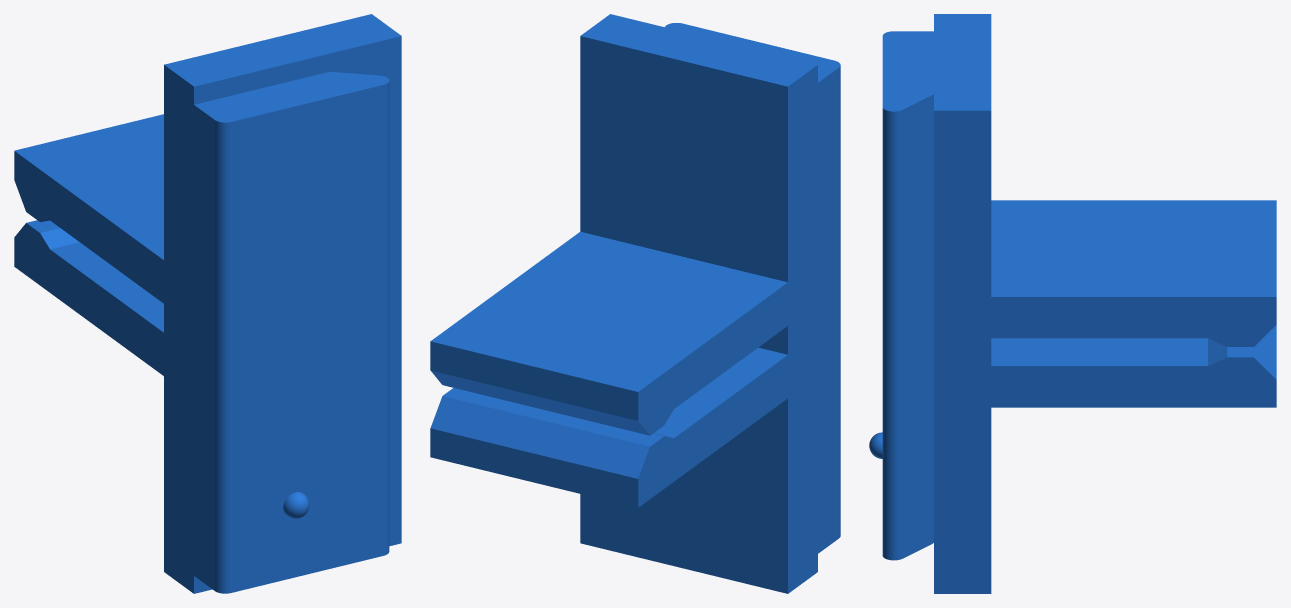
File: vent_clip.glb
3 views of the same model, side by side, from view 1: azimuth 30°, elevation 25°; view 2: azimuth 150°, elevation 25°; view 3: azimuth 270°, elevation 25° (orthographic). The views are drawn at different scales.
Visible parts, largest first — view 1: Open CASCADE STEP translator 7.9 3; view 2: Open CASCADE STEP translator 7.9 3; view 3: Open CASCADE STEP translator 7.9 3.
Part boxes in pixels (box(x1,y1,x2,y2)): Open CASCADE STEP translator 7.9 3: box(14, 14, 401, 593); Open CASCADE STEP translator 7.9 3: box(430, 14, 840, 593); Open CASCADE STEP translator 7.9 3: box(869, 14, 1276, 593).
Bounding box in the file's own units: 0.012 × 0.028 × 0.0214.
